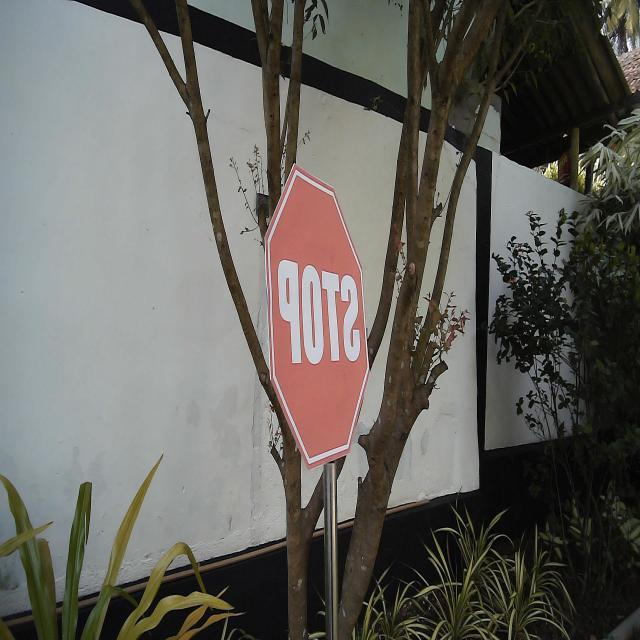stop: (260, 157, 372, 475)
